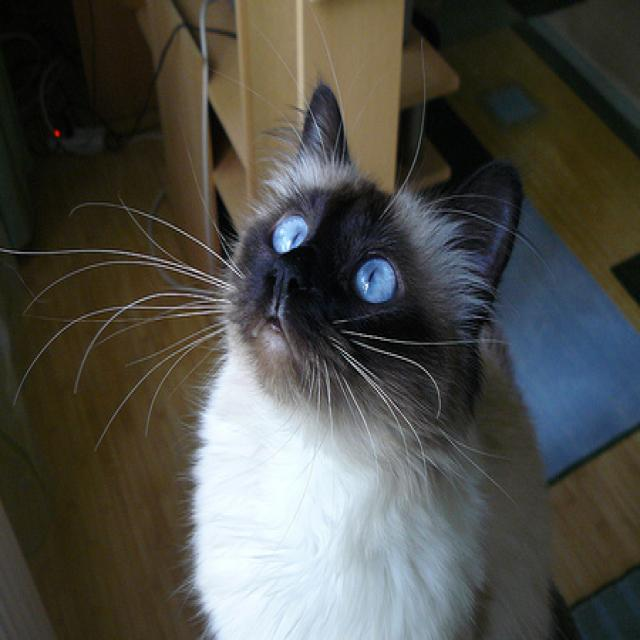Birman: (179, 79, 558, 640)
